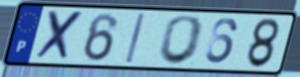6: (82, 12, 121, 63), (204, 17, 240, 67)
8: (245, 17, 282, 70)
I: (123, 12, 147, 65)
O: (156, 14, 207, 66)
X: (33, 9, 87, 63)
